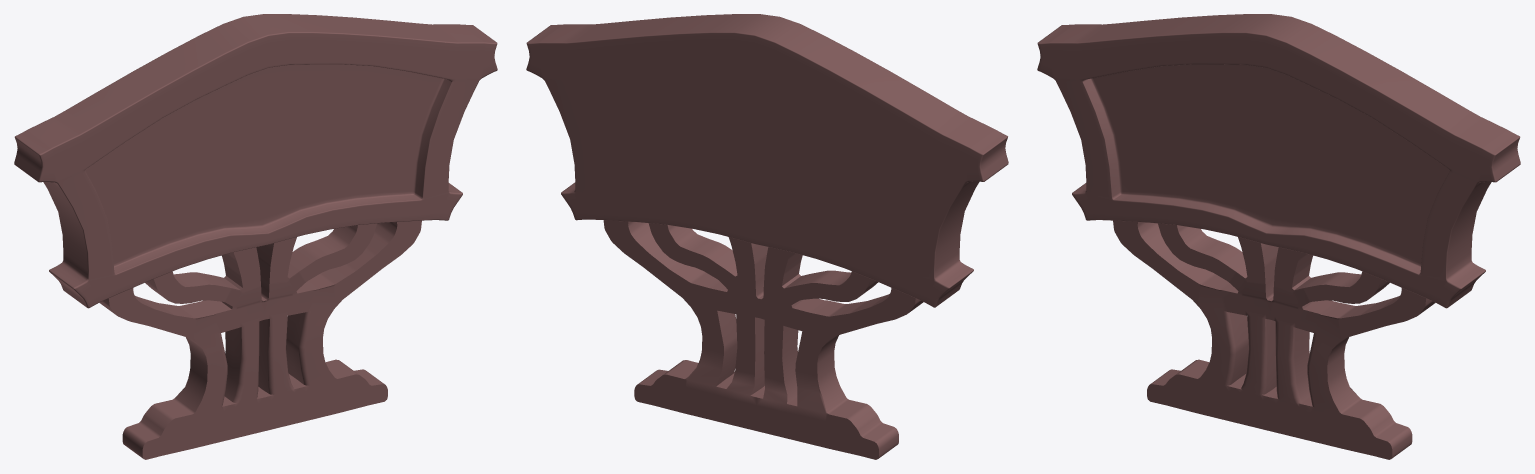
File: Item_QuestBoard.fbx
The picture shows the model from 3 angles, left to right: view 1: azimuth 30°, elevation 25°; view 2: azimuth 150°, elevation 25°; view 3: azimuth 330°, elevation 25°; orthographic projection.
Visible parts, largest first — view 1: Item_Questboard, Item_QuestBoard_Bas; view 2: Item_Questboard, Item_QuestBoard_Bas; view 3: Item_Questboard, Item_QuestBoard_Bas.
Part boxes in pixels (x1,y1,x2,y2): Item_Questboard: (14,14,497,308); Item_QuestBoard_Bas: (99,220,421,459); Item_Questboard: (526,14,1008,307); Item_QuestBoard_Bas: (603,220,923,459); Item_Questboard: (1037,14,1520,308); Item_QuestBoard_Bas: (1113,220,1435,459).
Size of the model in its own units: 279 by 232 by 27.01.
